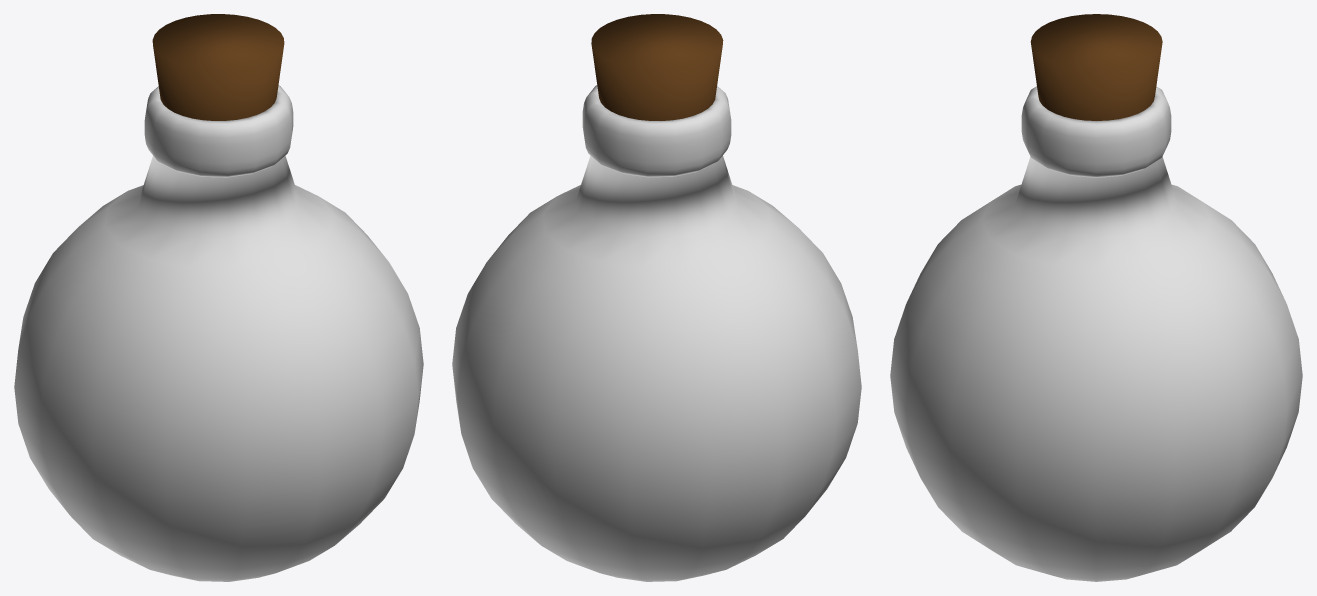
Rendered from Potion3.fbx.
3 views of the same model, side by side, from view 1: azimuth 30°, elevation 25°; view 2: azimuth 150°, elevation 25°; view 3: azimuth 270°, elevation 25° (orthographic).
Visible parts, largest first — view 1: Vidro3, Rolha3; view 2: Vidro3, Rolha3; view 3: Vidro3, Rolha3.
Boxes of the visible parts, box(x1,y1,x2,y2) form: Vidro3: box(14, 85, 423, 581); Rolha3: box(152, 14, 284, 120); Vidro3: box(452, 85, 861, 581); Rolha3: box(591, 14, 723, 120); Vidro3: box(890, 86, 1302, 581); Rolha3: box(1030, 14, 1162, 120).
Bounding box in the file's own units: 54.54 × 75.94 × 54.54.
